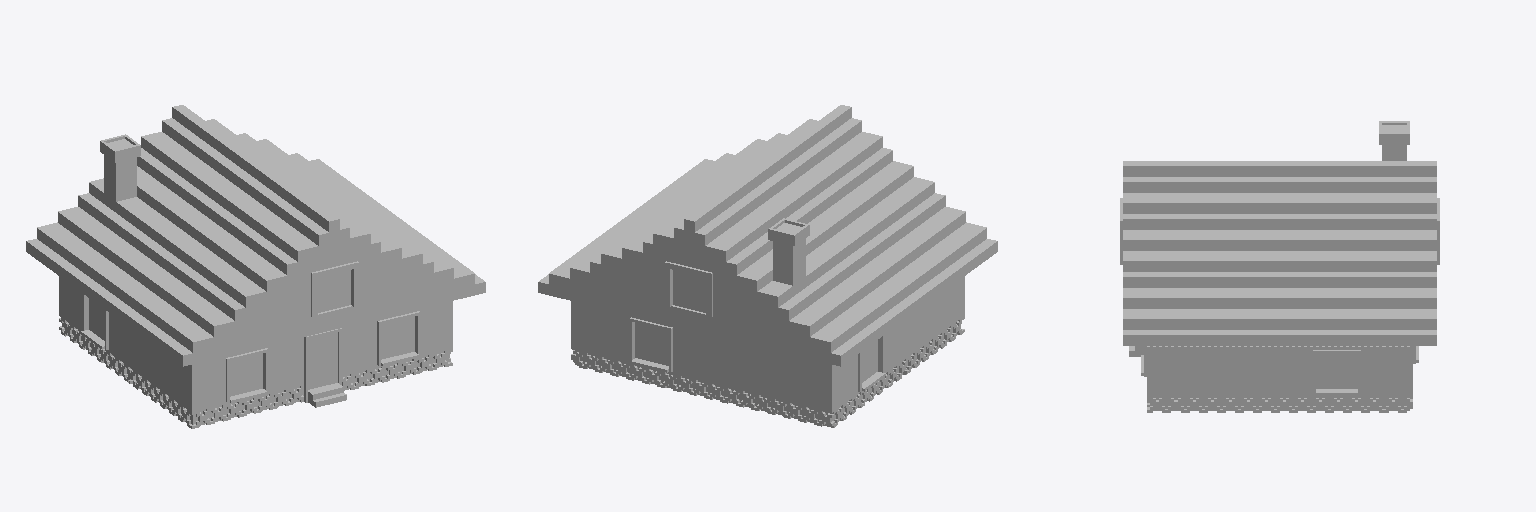
Rendered from MatthewsHouse 1.obj.
3 views of the same model, side by side, from view 1: azimuth 30°, elevation 25°; view 2: azimuth 150°, elevation 25°; view 3: azimuth 270°, elevation 25° (orthographic).
Parts seen in each view (by area): view 1: object 1; view 2: object 1; view 3: object 1.
Part boxes in pixels (x1,y1,x2,y2): object 1: (26,105,485,428); object 1: (538,105,997,427); object 1: (1120,121,1439,412).
Bounding box in the file's own units: 11.6 × 6.8 × 10.6.